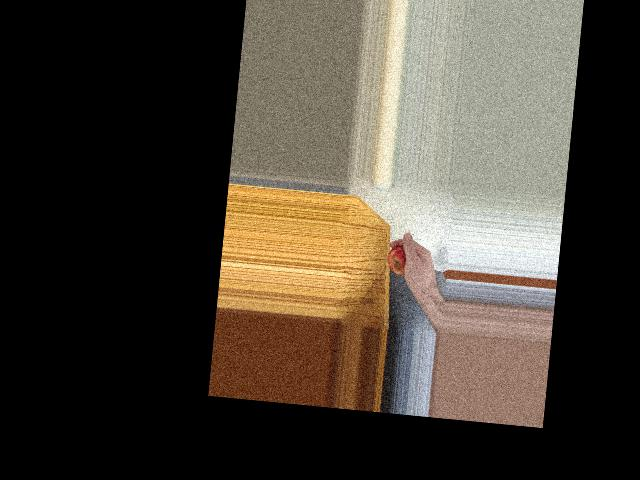apple: (383, 243, 422, 280)
